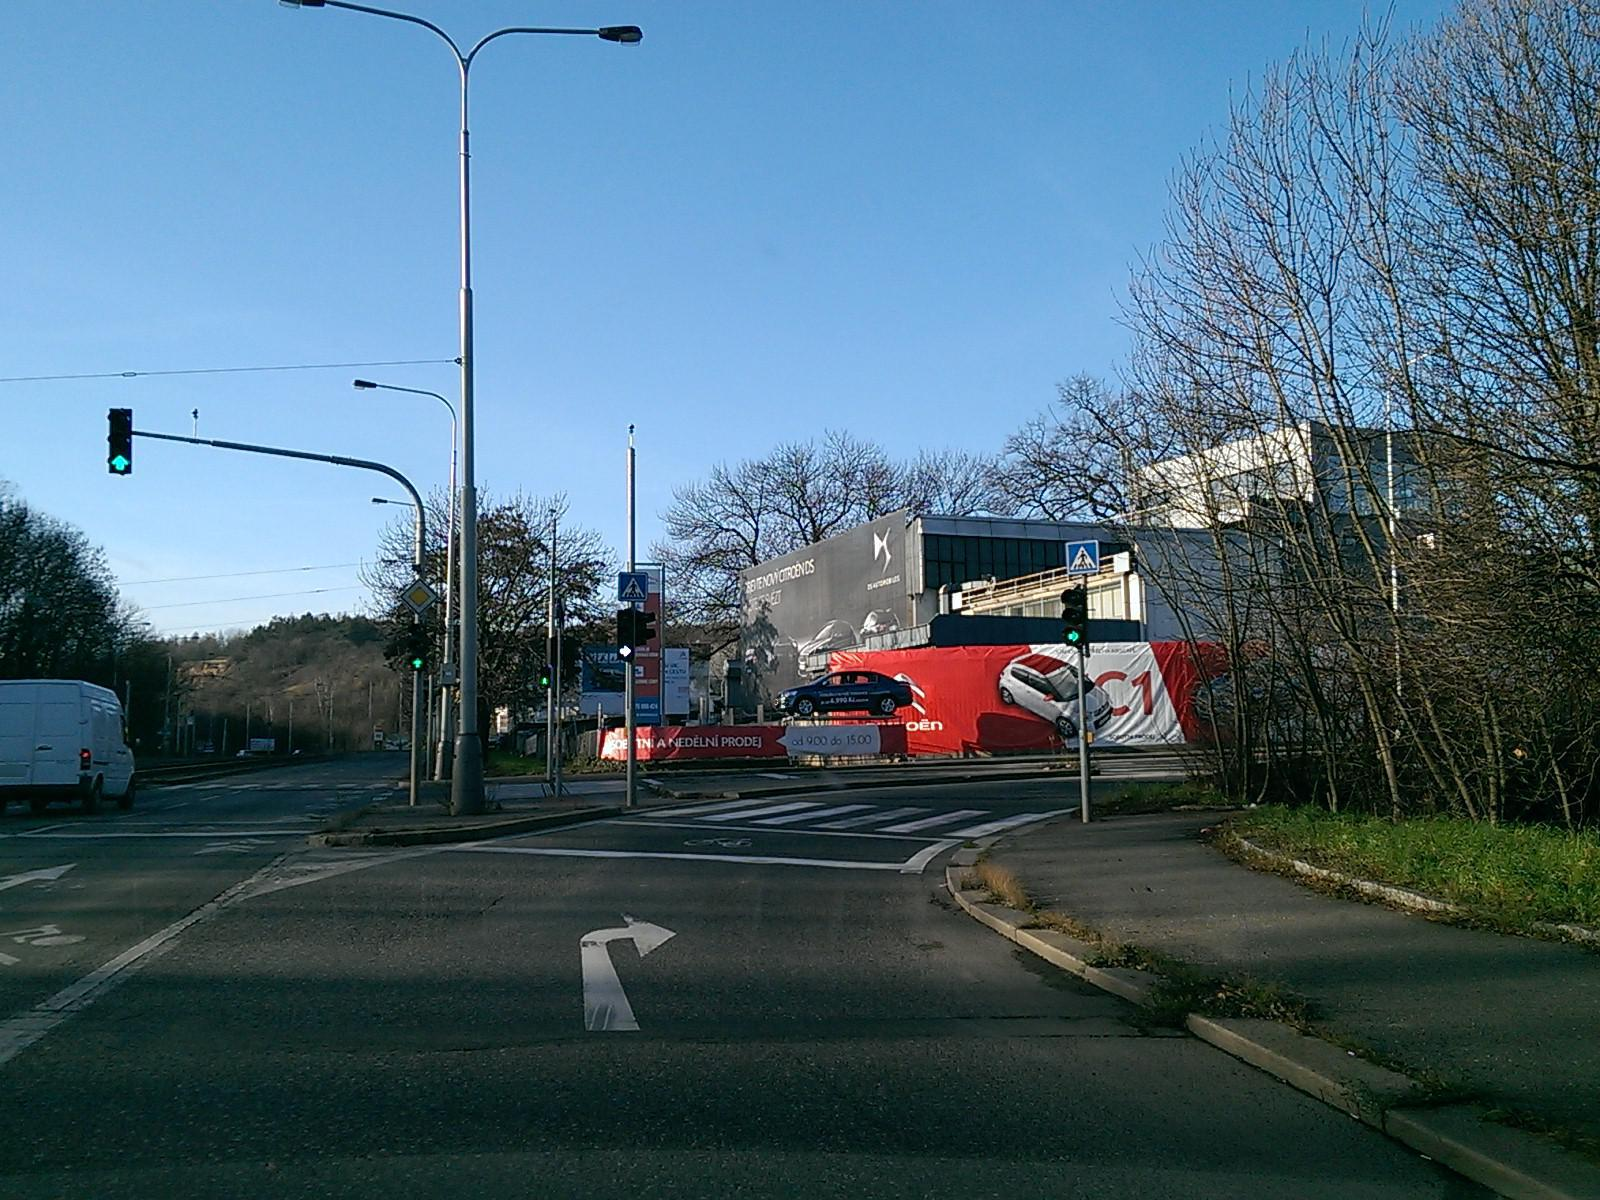vinyl banner: (816, 634, 1243, 755), (593, 720, 910, 764)
